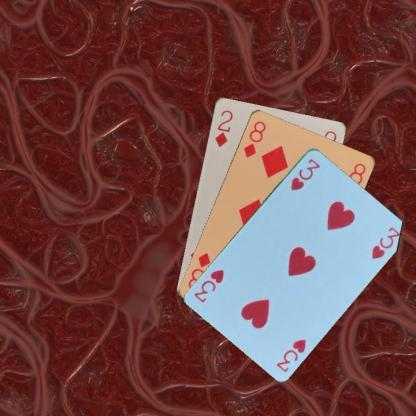2d: (212, 107, 234, 148)
3h: (274, 336, 308, 374), (288, 155, 322, 192)
8d: (240, 117, 267, 159)
